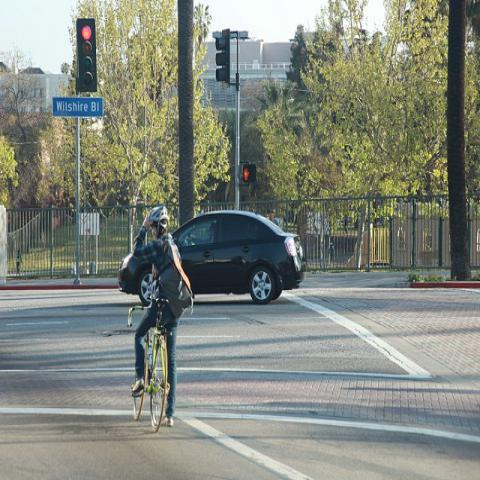car: (117, 210, 306, 308)
